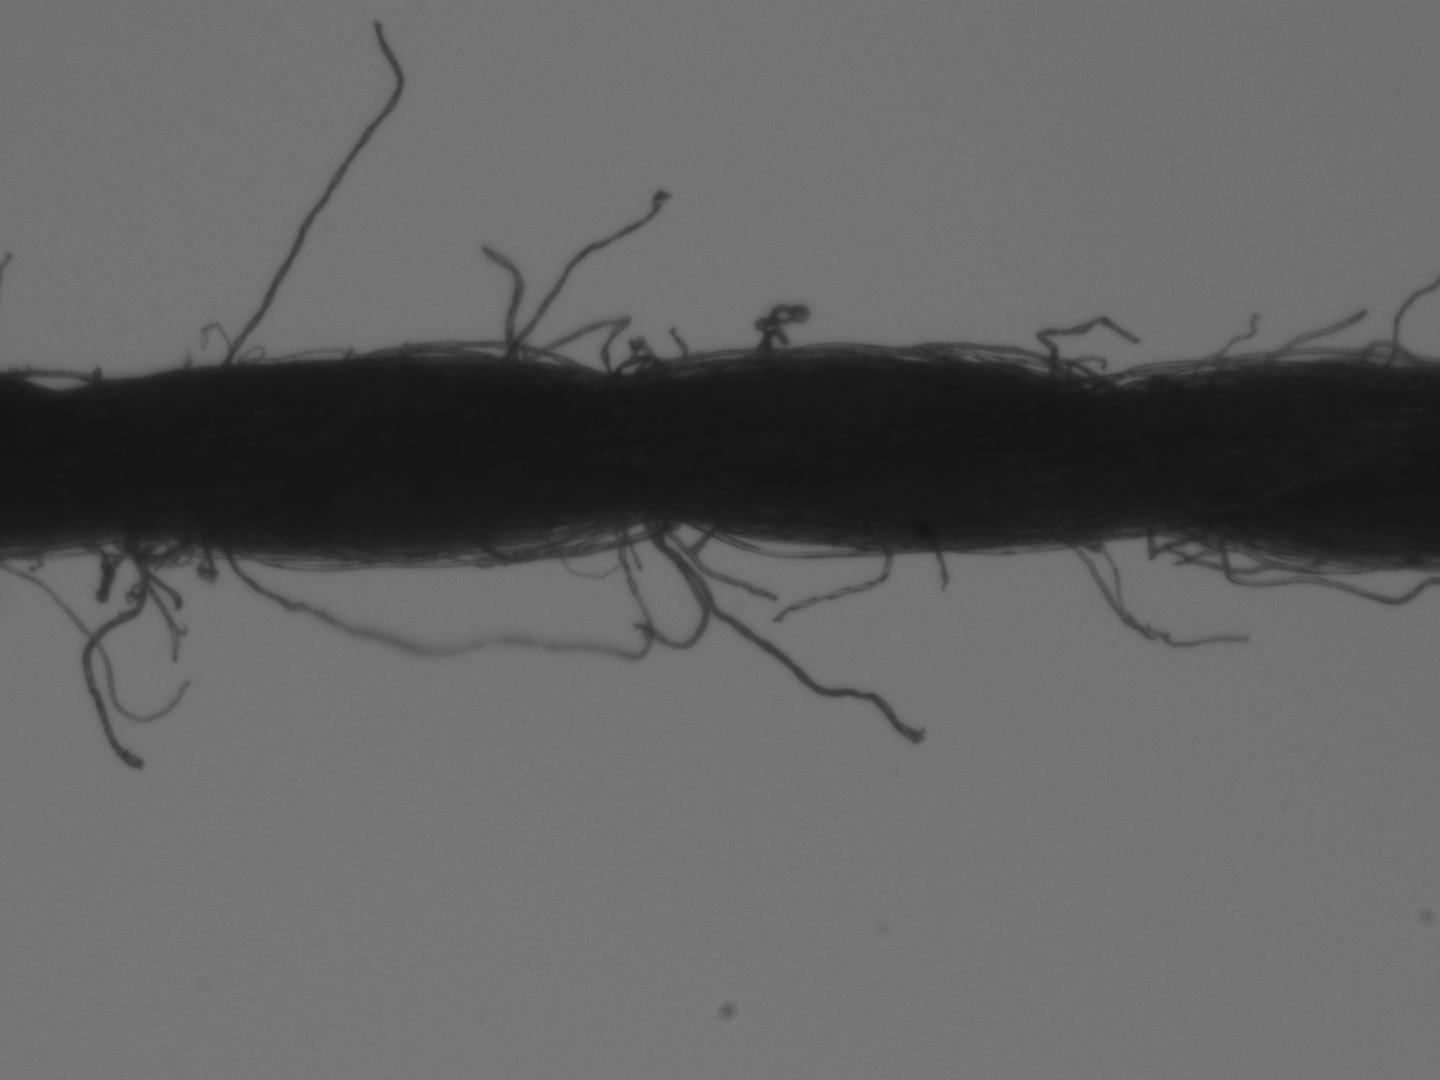loop_fiber: (679, 515, 892, 563), (477, 516, 672, 566), (890, 339, 1099, 379), (351, 338, 571, 370), (1230, 531, 1377, 574), (528, 318, 630, 379), (1110, 357, 1247, 386), (113, 531, 192, 572), (1361, 339, 1434, 370), (1142, 530, 1201, 557), (10, 370, 101, 386), (612, 352, 670, 376)
protruding_fiber: (218, 27, 405, 364), (643, 531, 931, 739), (507, 193, 670, 370), (77, 540, 150, 765), (774, 545, 899, 628), (633, 525, 706, 650), (1263, 305, 1371, 363), (483, 243, 525, 363), (934, 542, 947, 597)
